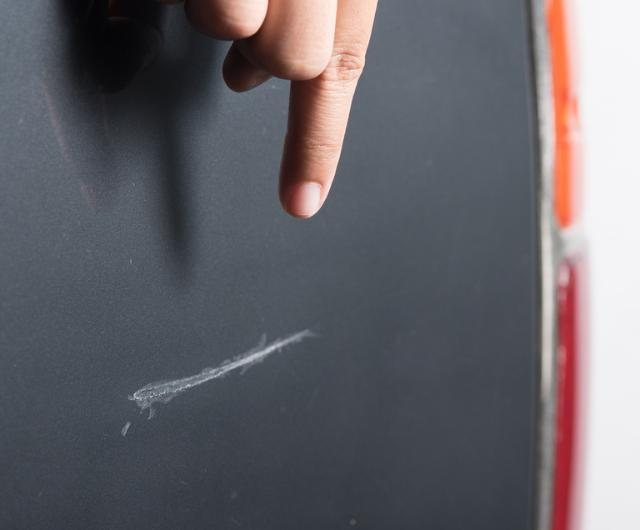Fender: (83, 330, 474, 468)
